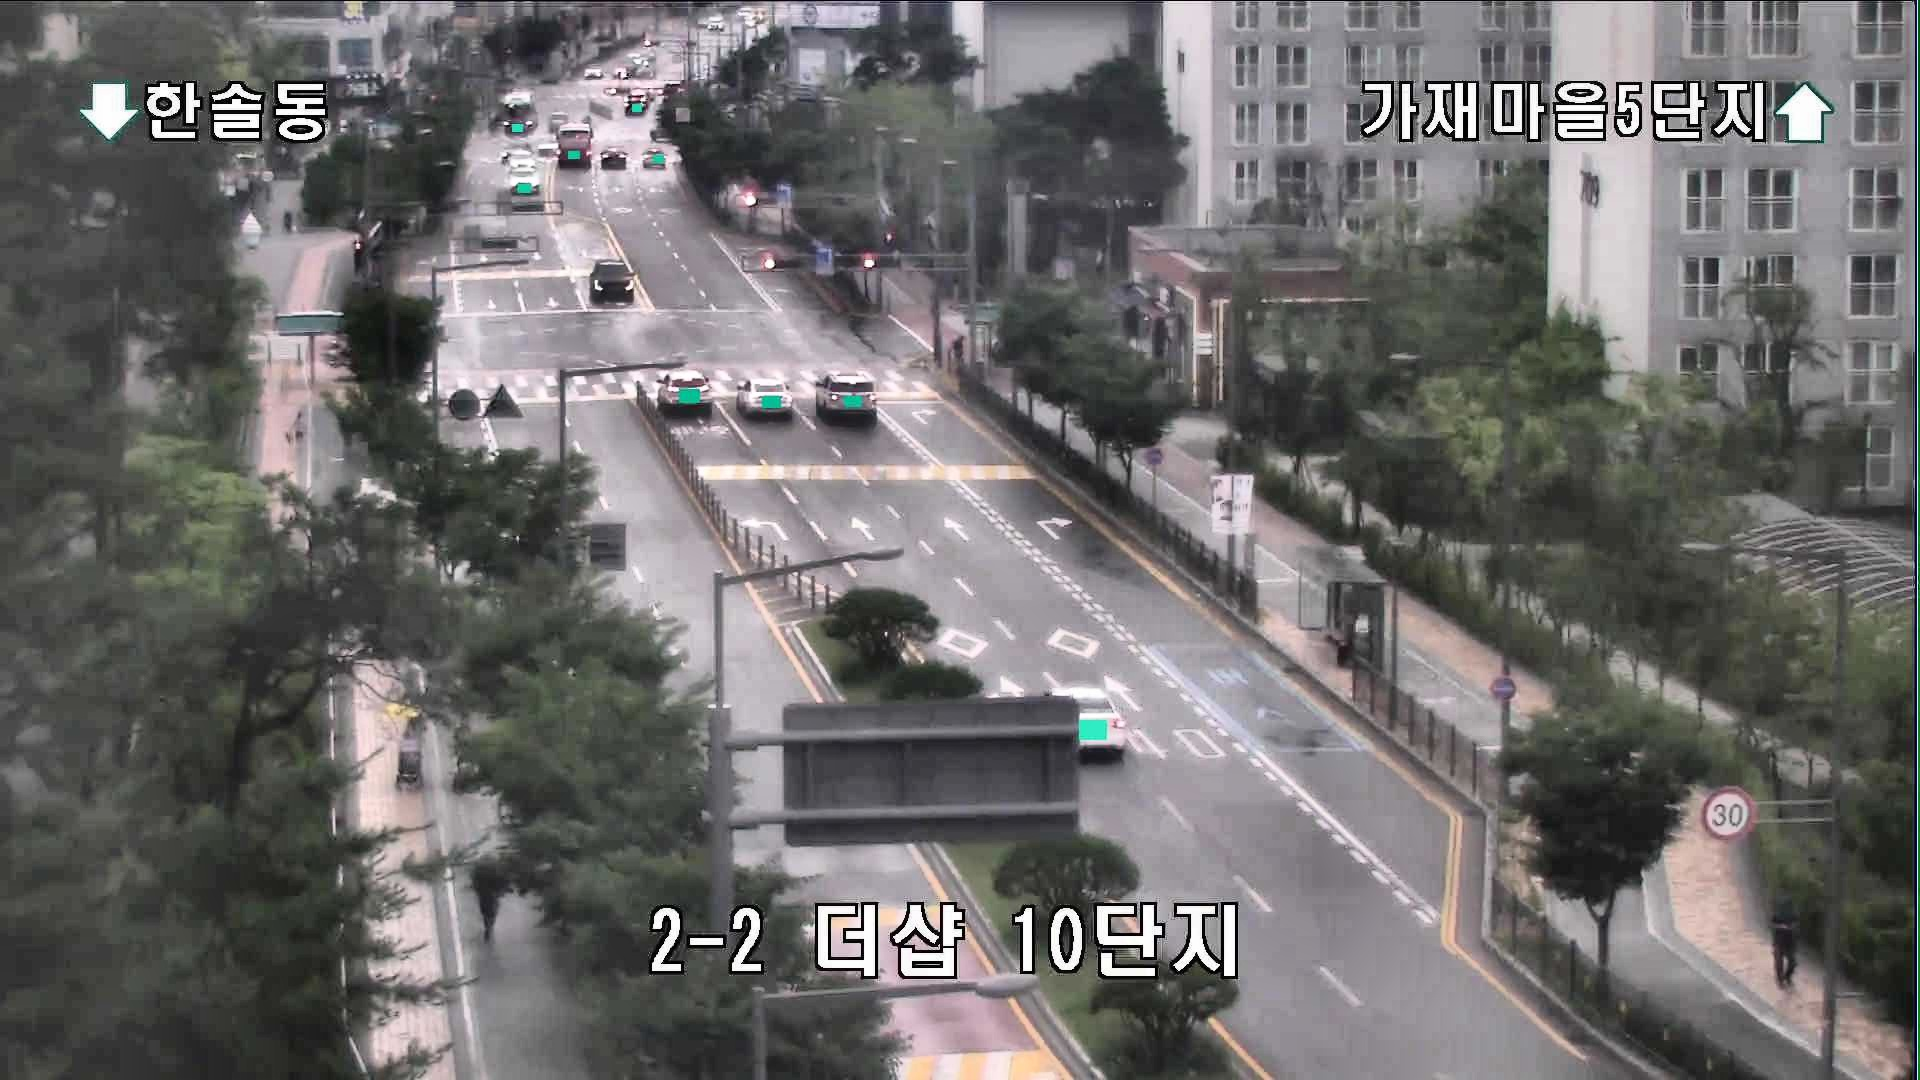sidewalk: (468, 858, 509, 938), (1771, 899, 1803, 992), (293, 409, 310, 455), (949, 332, 968, 371)
um_sidewalk: (381, 694, 431, 789)
